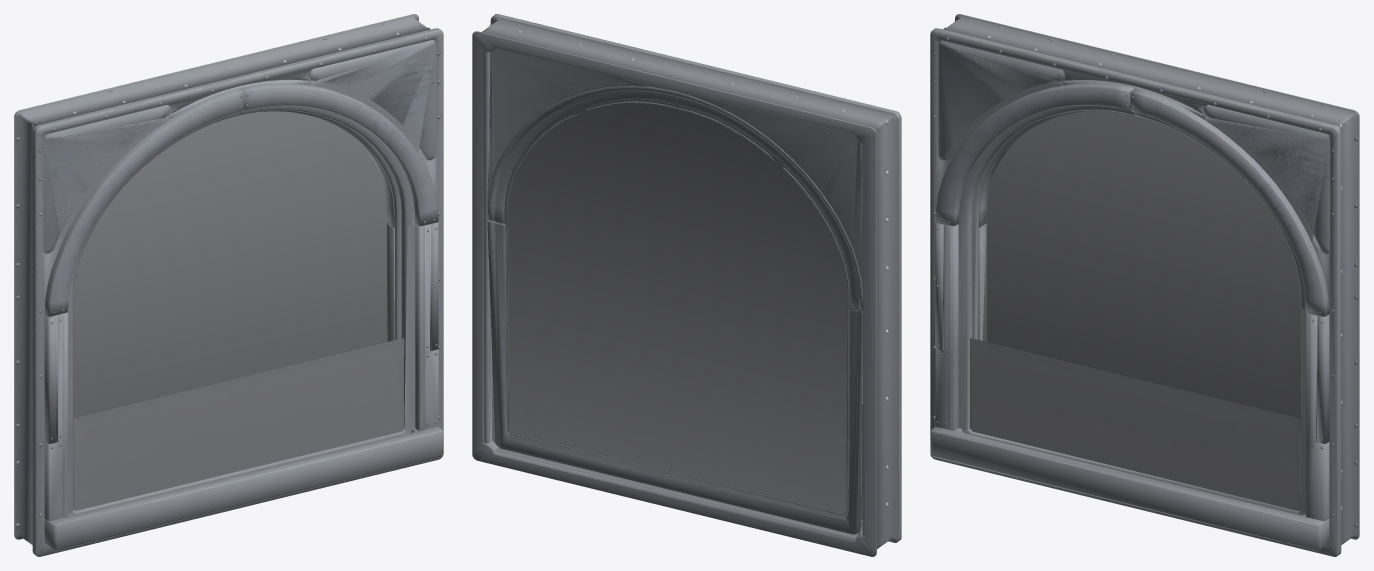
Rendered from tripo_convert_64b72750-6539-40ea-9fff-0b3ff72bc5f9.fbx.
3 renders of one model, left to right at view 1: azimuth 30°, elevation 25°; view 2: azimuth 150°, elevation 25°; view 3: azimuth 330°, elevation 25°, orthographic.
Parts seen in each view (by area): view 1: tripo_part_51, tripo_part_0, tripo_part_38, tripo_part_4, tripo_part_3, tripo_part_5, tripo_part_113; view 2: tripo_part_51, tripo_part_0, tripo_part_1, tripo_part_6, tripo_part_7; view 3: tripo_part_51, tripo_part_0, tripo_part_38, tripo_part_4, tripo_part_3, tripo_part_5, tripo_part_110, tripo_part_104.
Part boxes in pixels (x1,y1,x2,y2): tripo_part_51: [73, 111, 386, 418]; tripo_part_0: [14, 14, 443, 556]; tripo_part_38: [69, 224, 415, 515]; tripo_part_4: [44, 83, 438, 521]; tripo_part_3: [44, 426, 443, 550]; tripo_part_5: [250, 110, 401, 339]; tripo_part_113: [387, 224, 394, 341]; tripo_part_51: [495, 47, 860, 538]; tripo_part_0: [472, 14, 901, 556]; tripo_part_1: [487, 86, 862, 534]; tripo_part_6: [689, 95, 862, 292]; tripo_part_7: [489, 48, 658, 188]; tripo_part_51: [987, 111, 1300, 418]; tripo_part_0: [930, 14, 1359, 556]; tripo_part_38: [963, 308, 1329, 515]; tripo_part_4: [935, 83, 1329, 521]; tripo_part_3: [930, 426, 1329, 550]; tripo_part_5: [972, 110, 1300, 418]; tripo_part_110: [979, 224, 986, 340]; tripo_part_104: [974, 218, 986, 341].
Size of the model in its own units: 0.9946 by 0.9995 by 0.1411.
Materials: 1 (1 with a texture image).
